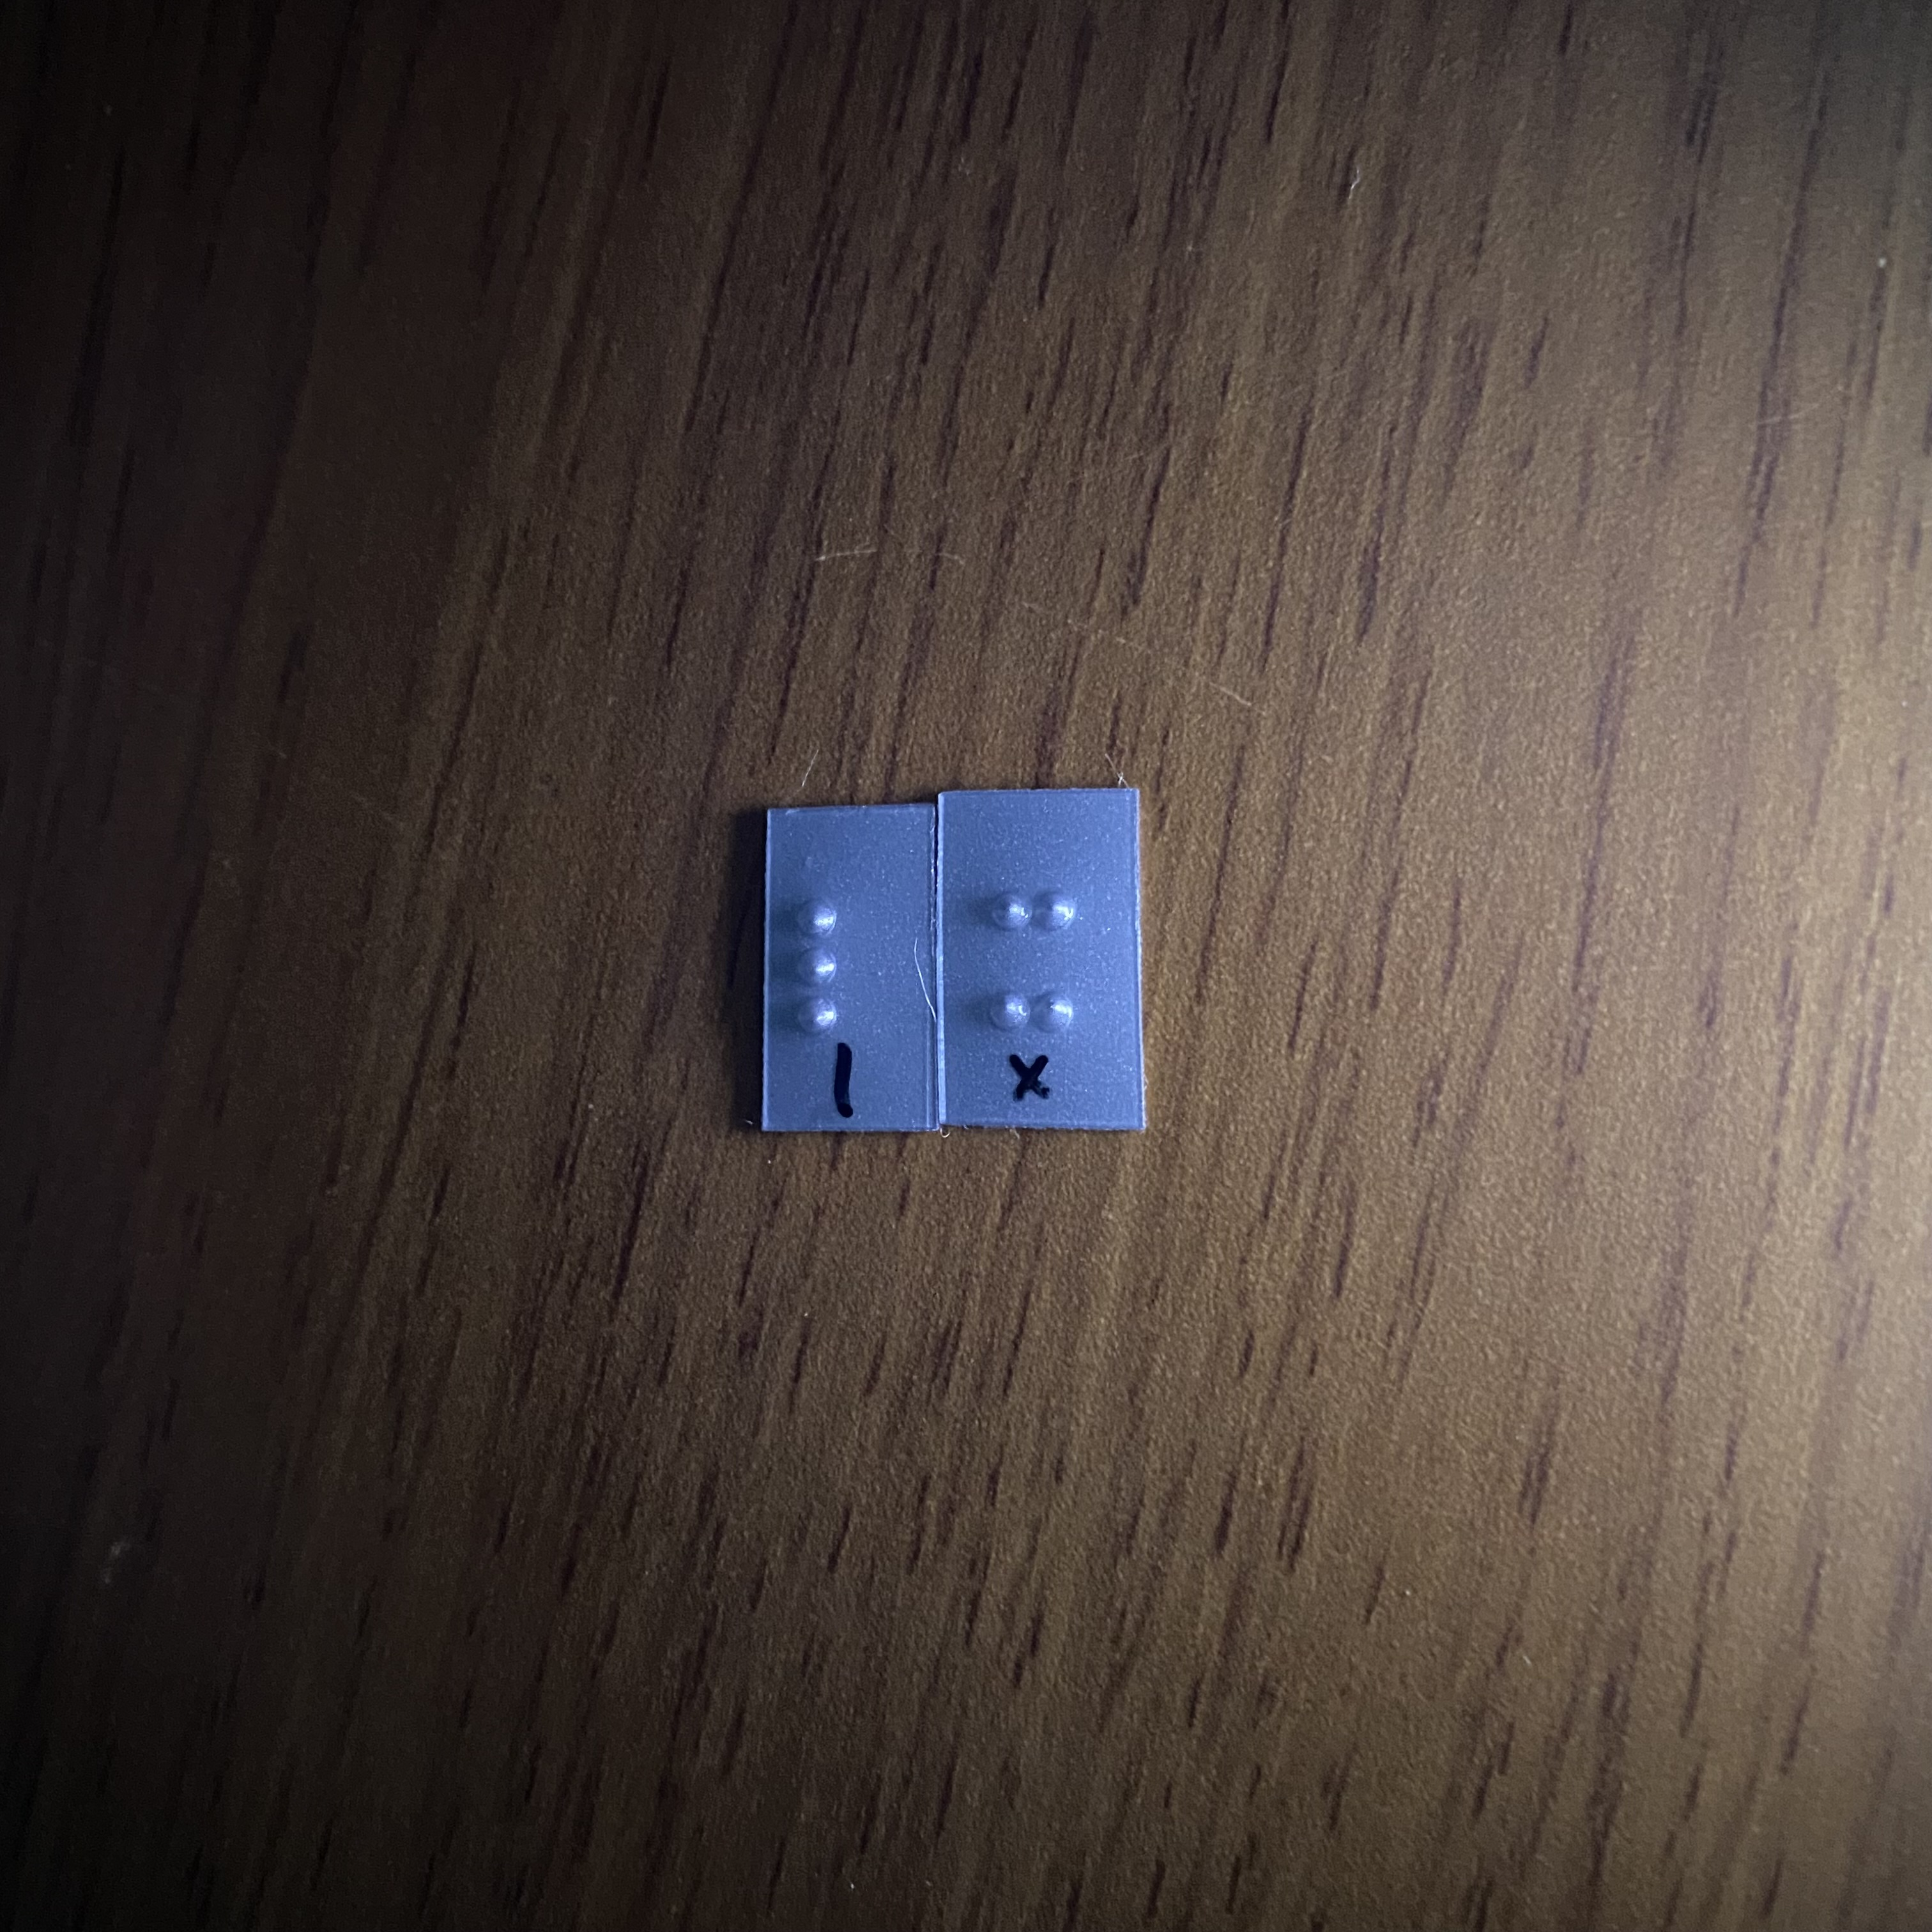l: (772, 890, 888, 1044)
x: (970, 879, 1089, 1042)
